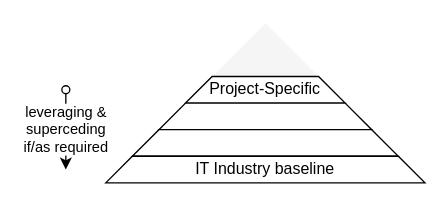
This 448x206 diagram has some shape labels left out. Here are the shapes that lost their labels. From the top down, the centre of each, then its label:
At (265,116): "Org-Specific".
At (264,142): "Sector-Specific".
